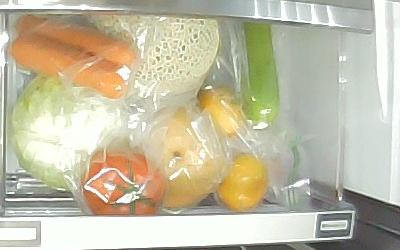cabbage: (9, 71, 126, 191)
carrot_vinyl: (10, 34, 127, 99), (15, 13, 137, 67)
melon: (84, 13, 220, 94)
pear_vinyl: (145, 106, 227, 209)
tangerine_vinyl: (216, 154, 268, 210), (202, 86, 243, 137)
tomato_vinyl: (84, 148, 166, 216)
zucchini_vinyl: (239, 21, 281, 131)
